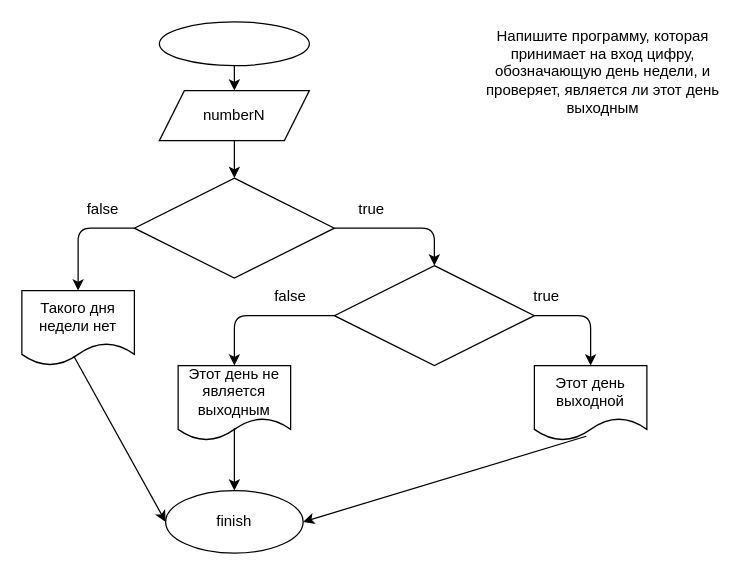
Some shapes in this 744 by 575 pixel diagram are drawn without their labels. Each missing label, with the box of its shape:
0 < number N <8: (133, 177, 334, 278)
number == 6 or number == 7: (333, 264, 534, 366)
start: (158, 21, 309, 66)
